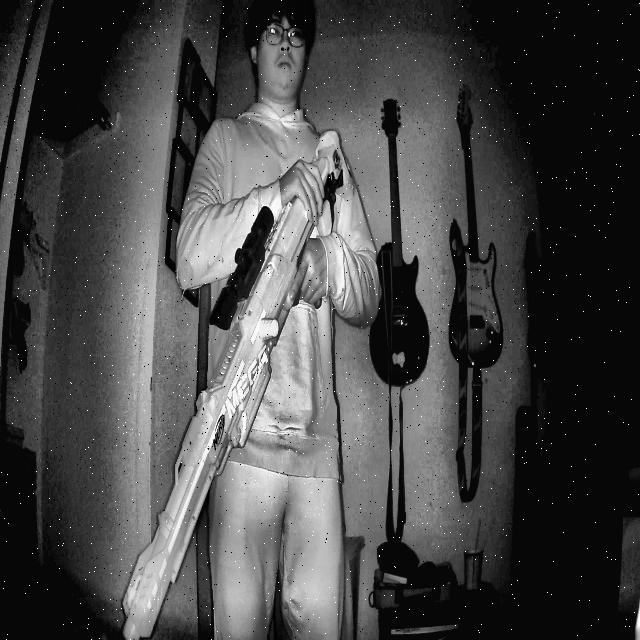Nerf_Blaster: (117, 117, 385, 640)
